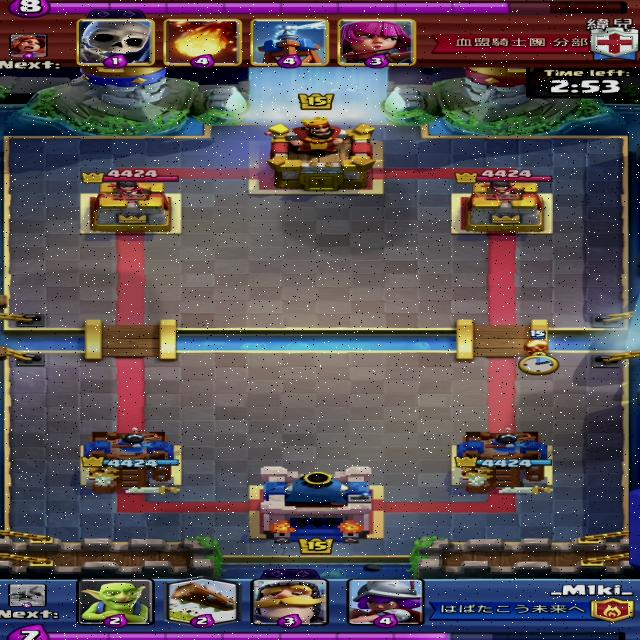Player-FireSpirit: (522, 329, 551, 355)
